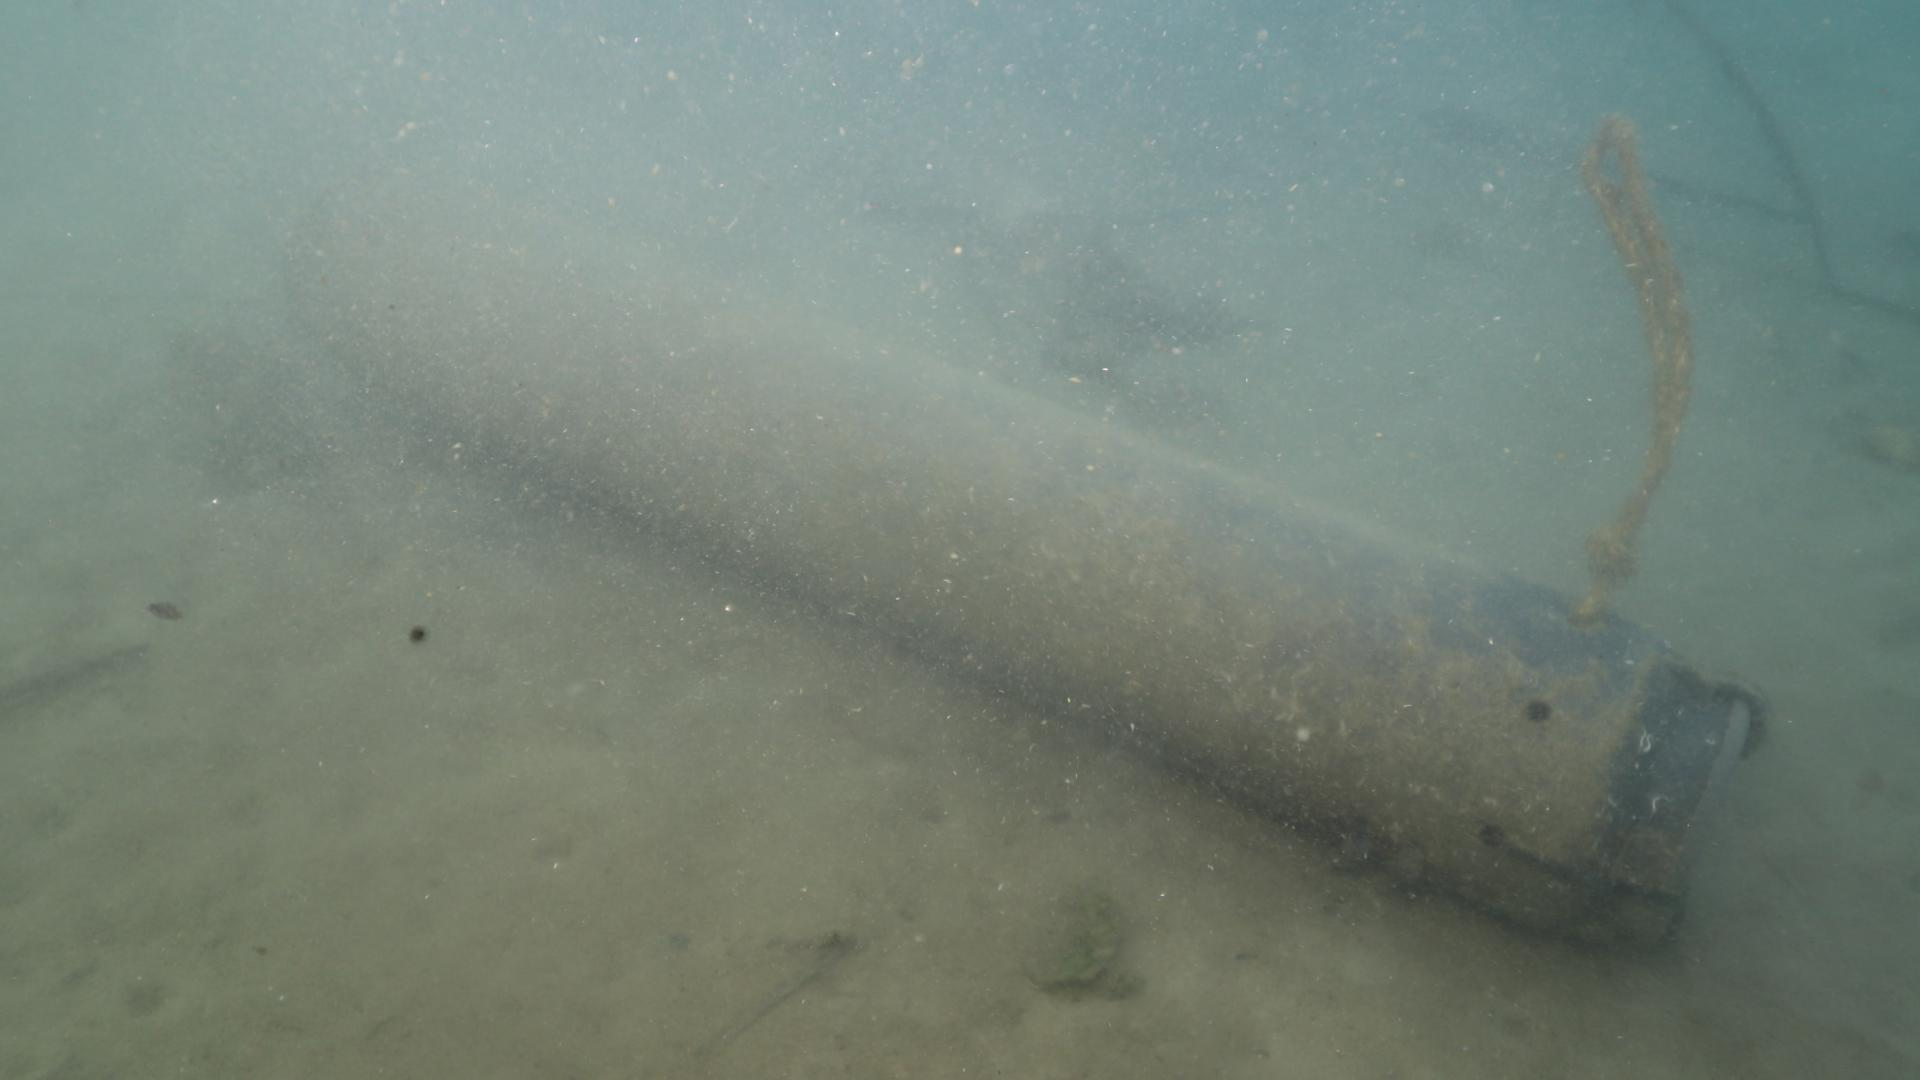bundle of ropes: (1576, 113, 1695, 617)
eel fish trap: (280, 178, 1770, 971)
